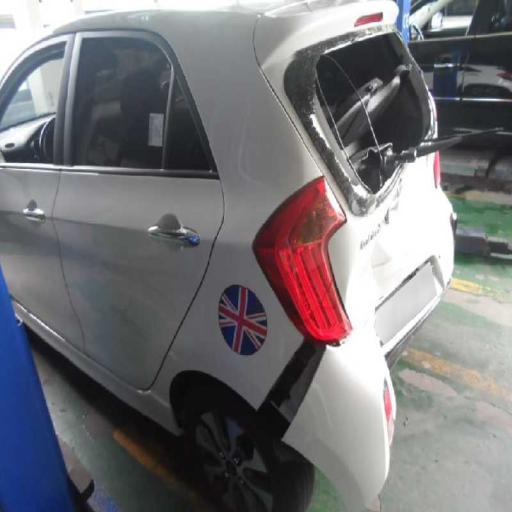broken: (271, 28, 462, 484)
